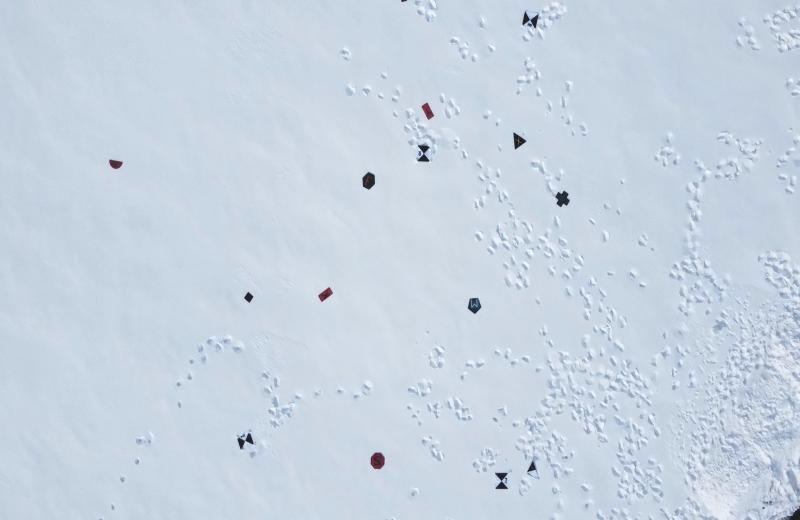Cross: (554, 189, 570, 207)
Hexagon: (362, 171, 376, 190)
Octagon: (370, 451, 386, 470)
Pentagon: (467, 297, 482, 314)
Rectangle: (318, 285, 334, 304), (420, 102, 435, 120)
Semi Circle: (109, 159, 124, 170)
Square: (244, 290, 254, 303)
Triangle: (513, 131, 527, 150)
